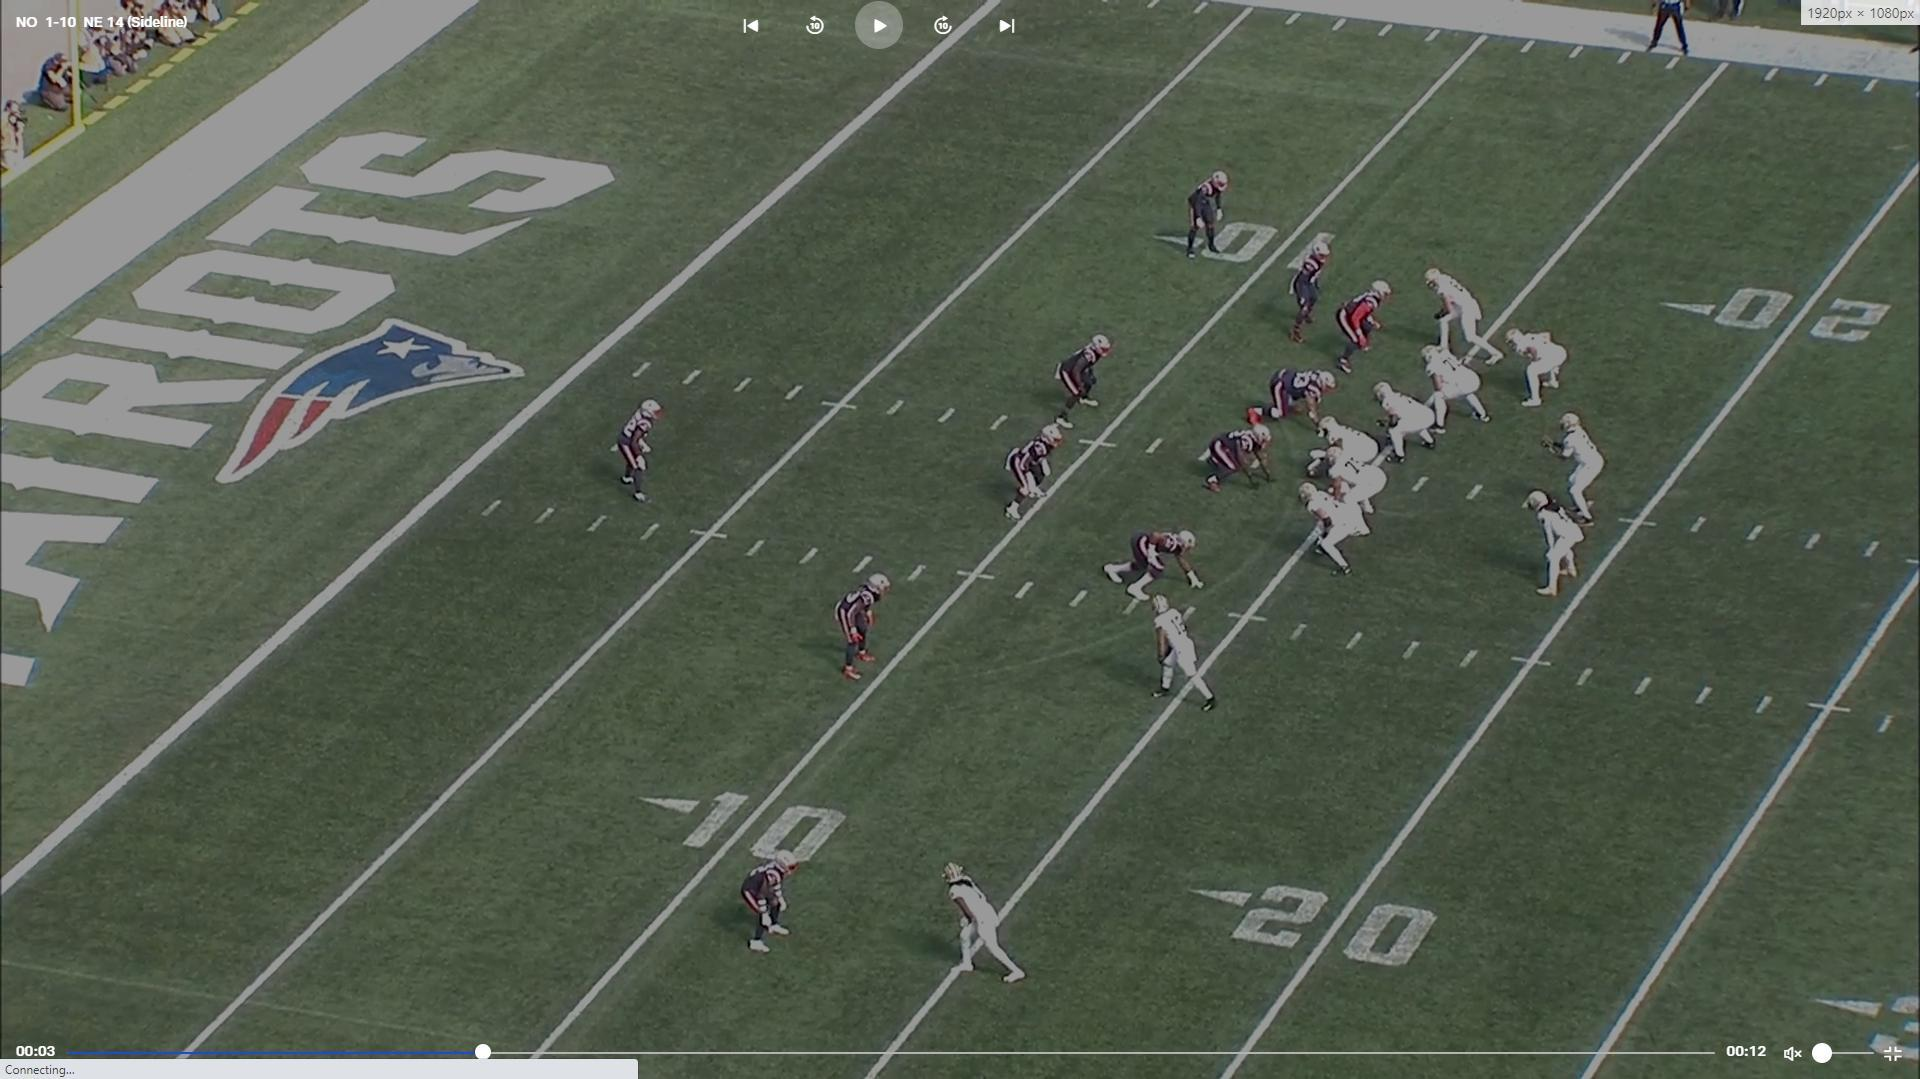player: (937, 857, 1028, 989), (1150, 593, 1226, 715), (739, 843, 812, 960), (1105, 526, 1208, 606), (1424, 263, 1502, 365), (831, 567, 894, 687), (1549, 408, 1607, 529), (1004, 421, 1070, 525), (1243, 366, 1340, 436), (1295, 479, 1359, 580), (1052, 330, 1117, 427), (1532, 489, 1588, 601), (1328, 282, 1389, 381), (1325, 451, 1391, 540), (1424, 350, 1493, 434), (1372, 380, 1438, 467), (615, 399, 665, 512), (1180, 165, 1235, 266), (1199, 428, 1279, 497), (1513, 327, 1575, 411), (1287, 233, 1332, 348), (1323, 414, 1382, 465)
ref: (1643, 0, 1701, 58)
